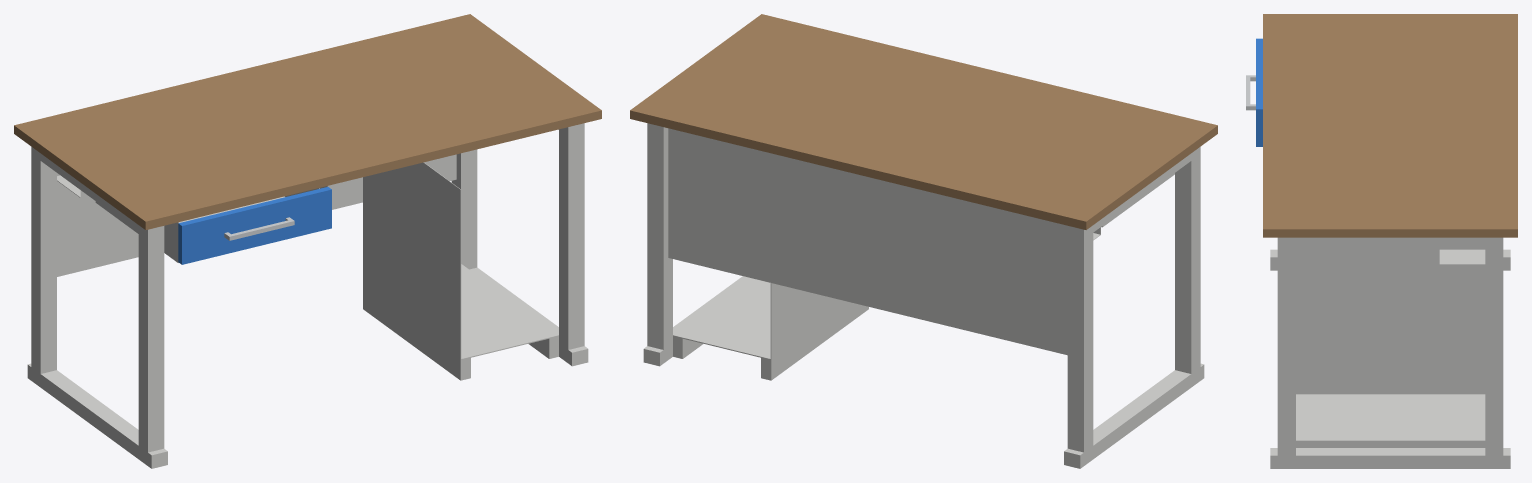
The model's file is desk-pc.glb.
The picture shows the model from 3 angles, left to right: view 1: azimuth 30°, elevation 25°; view 2: azimuth 150°, elevation 25°; view 3: azimuth 270°, elevation 25°; orthographic projection. The views are drawn at different scales.
Parts seen in each view (by area): view 1: body, drawer; view 2: body; view 3: body, drawer.
Boxes of the visible parts, box(x1,y1,x2,y2) form: body: box(14, 14, 601, 468); drawer: box(178, 187, 331, 264); body: box(630, 14, 1217, 468); body: box(1263, 14, 1517, 468); drawer: box(1246, 38, 1262, 146).
Size of what is drawn, in the model's own units: 1.4 by 0.74 by 0.747.
